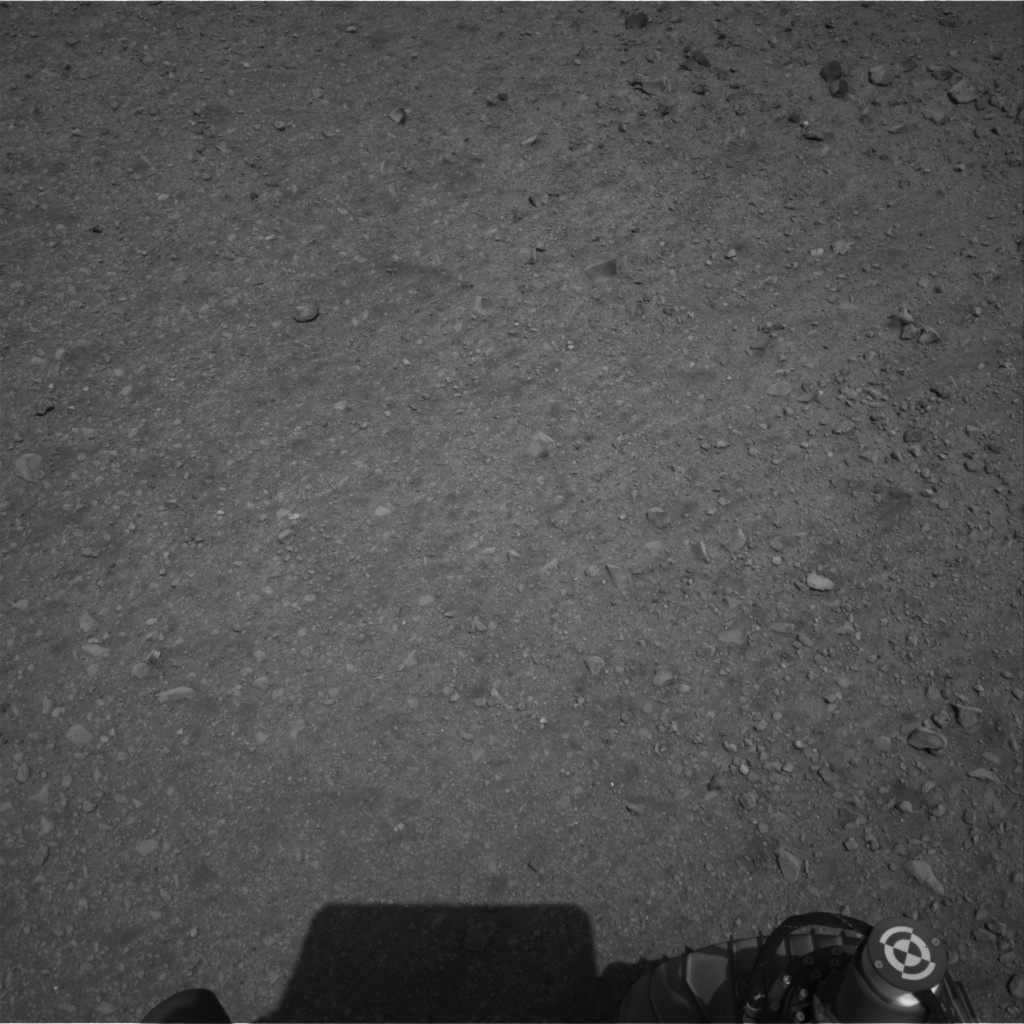soil: (14, 14, 1018, 1012)
